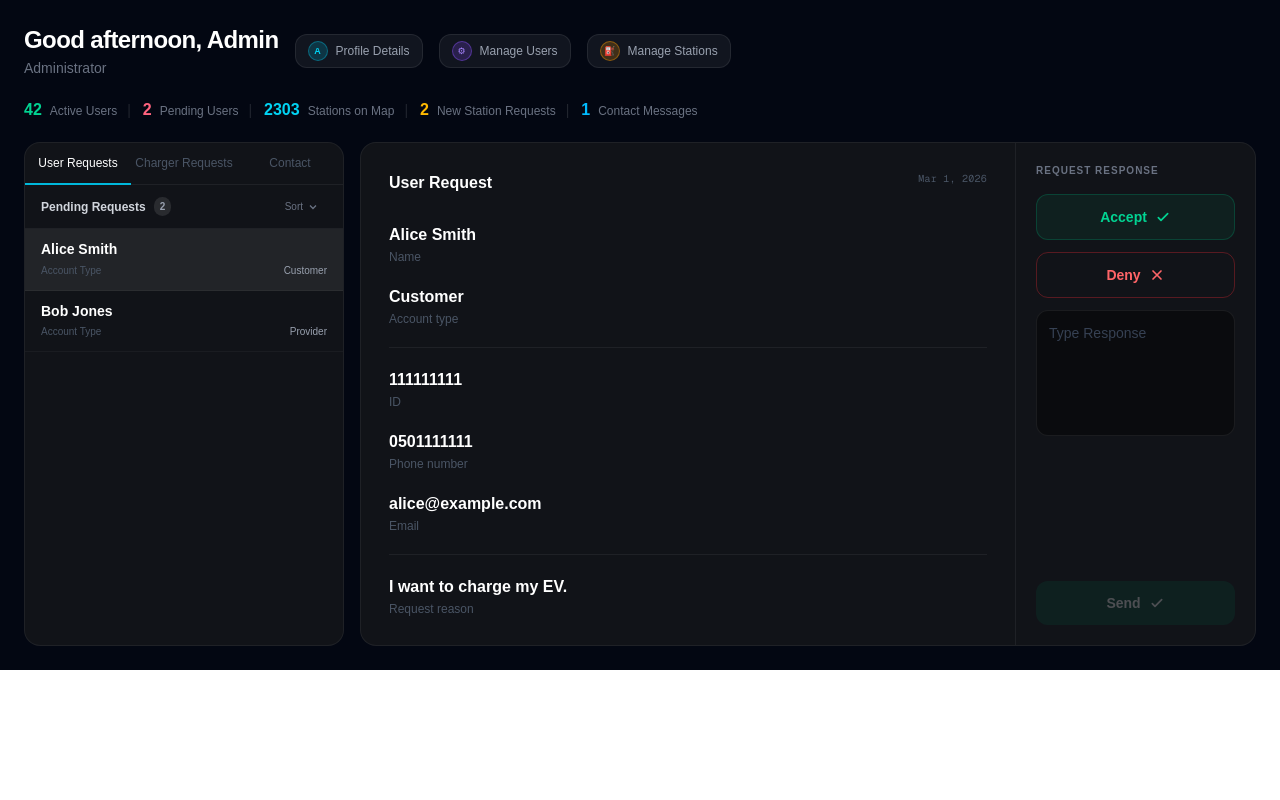
Test: sort order › opens the sort dropdown when the Sort button is clicked
Click the button "Sort" at point(302, 206), box [277,195,327,218]
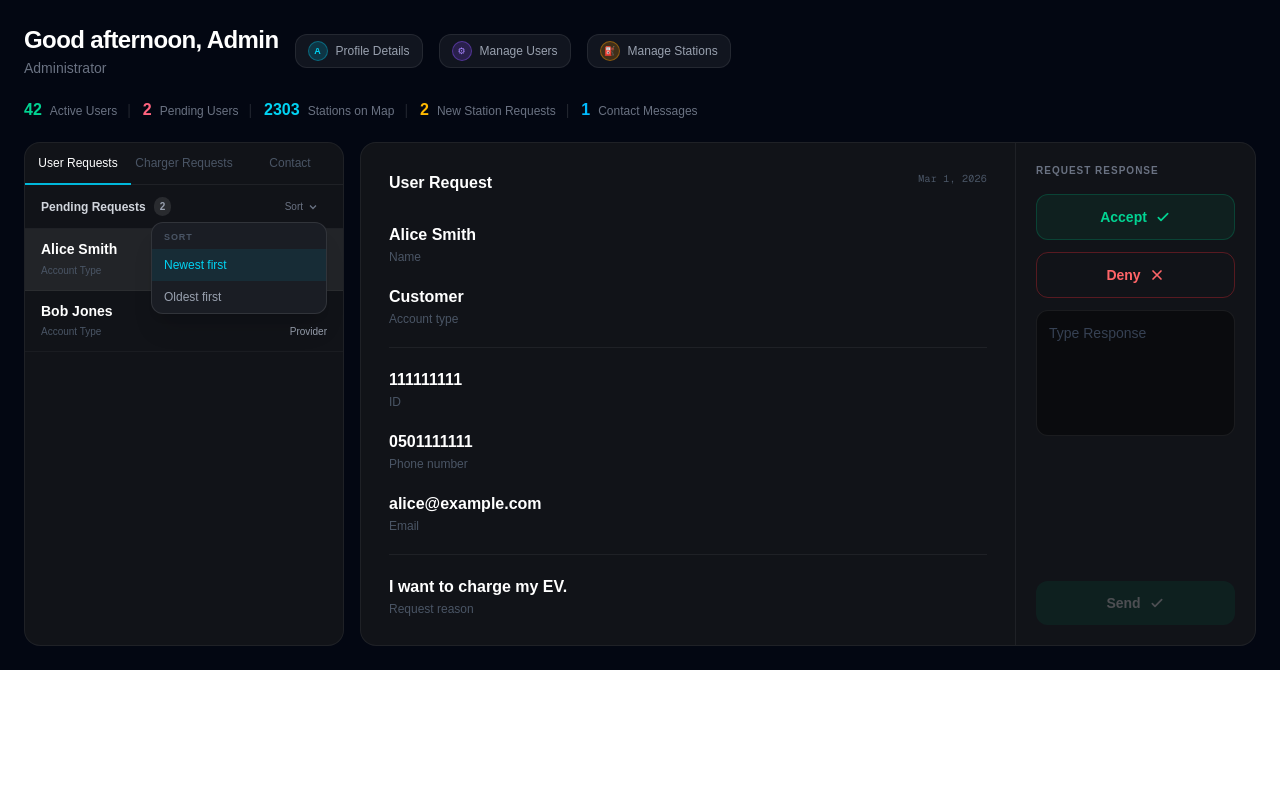
Now the button "Newest first" is shown, box [152,248,326,280]
Now the button "Oldest first" is shown, box [152,280,326,312]
